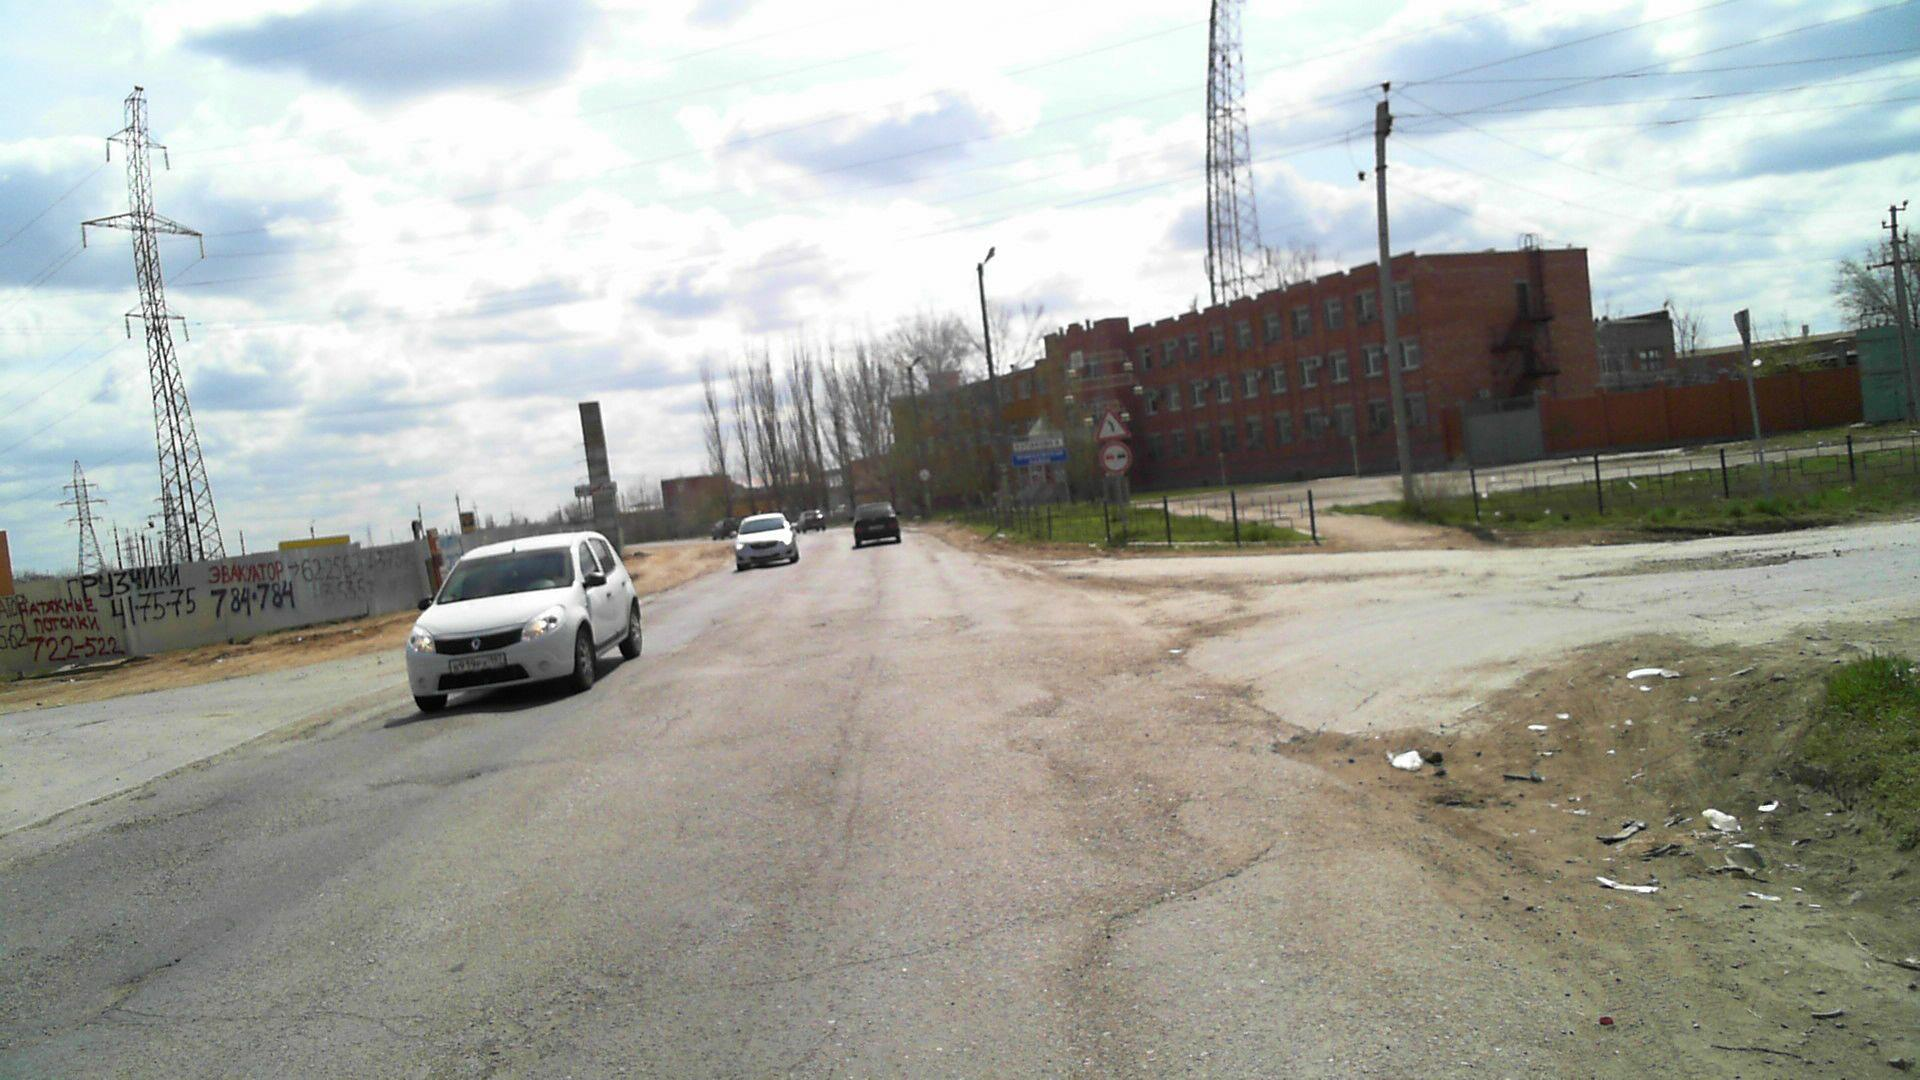1_11_2: (1093, 407, 1135, 440)
3_20: (1100, 443, 1131, 475)
